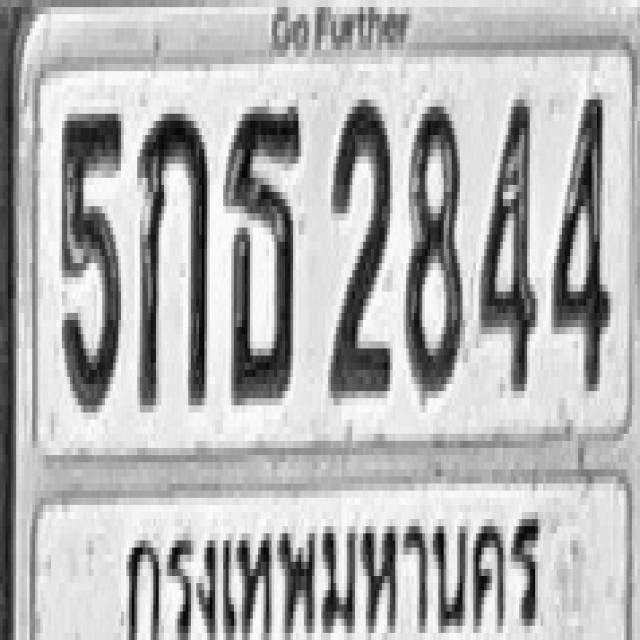10GorGai: (137, 107, 207, 405)
2: (328, 96, 390, 395)
33ThorThong: (223, 100, 301, 398)
4: (552, 93, 610, 391), (479, 93, 535, 391)
5: (59, 106, 121, 412)
8: (405, 100, 461, 391)
Bangkok: (111, 491, 548, 640)
